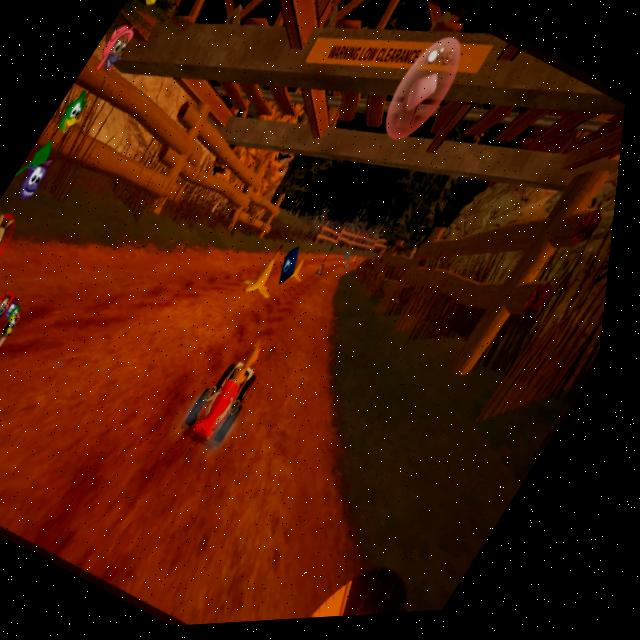enemy_kart: (316, 260, 339, 288), (347, 260, 362, 276)
obstacle: (242, 254, 294, 310)
off_track: (85, 74, 370, 271), (309, 255, 574, 465)
player_kart: (182, 336, 289, 459)
track: (36, 225, 269, 451)
